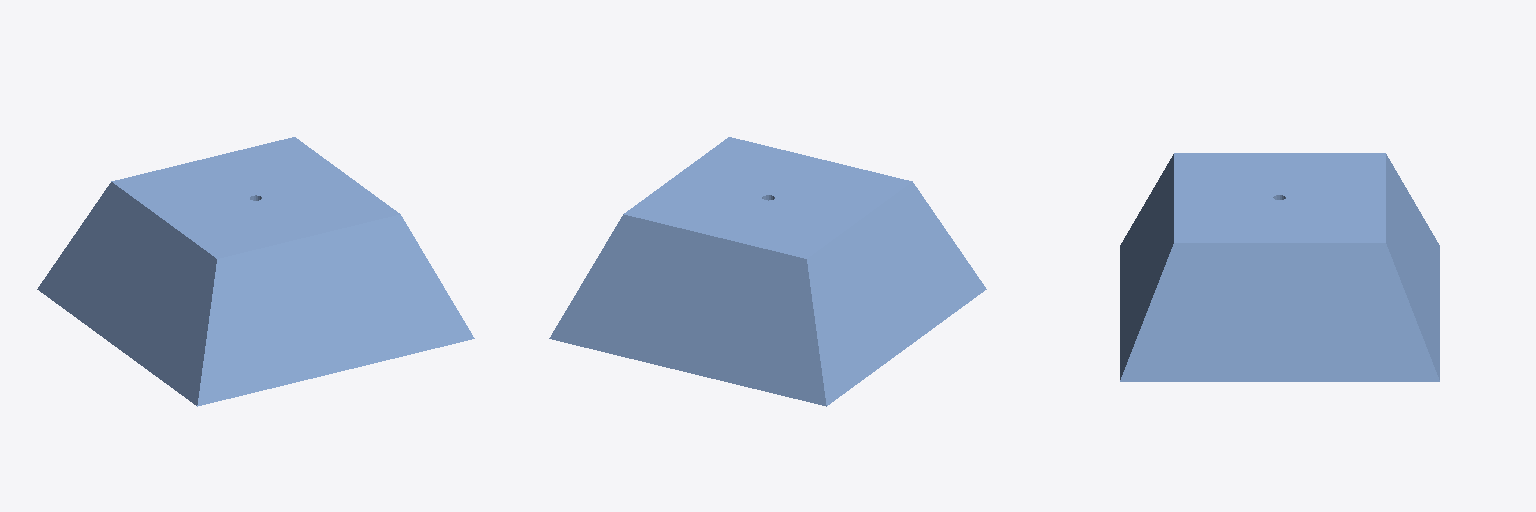
The picture shows the model from 3 angles: view 1: azimuth 30°, elevation 25°; view 2: azimuth 150°, elevation 25°; view 3: azimuth 270°, elevation 25°; orthographic projection.
Visible parts, largest first — view 1: platform; view 2: platform; view 3: platform.
Part boxes in pixels (bbox=[...]): platform: bbox=[37, 137, 474, 406]; platform: bbox=[549, 137, 986, 406]; platform: bbox=[1120, 153, 1439, 381].
Size of the model in its own units: 50 by 20 by 50.